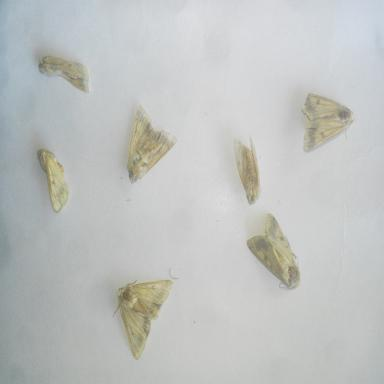abw: (110, 275, 175, 362), (243, 211, 303, 295), (124, 102, 180, 187), (296, 90, 356, 155), (35, 51, 93, 99), (230, 128, 264, 209), (34, 144, 72, 216)
